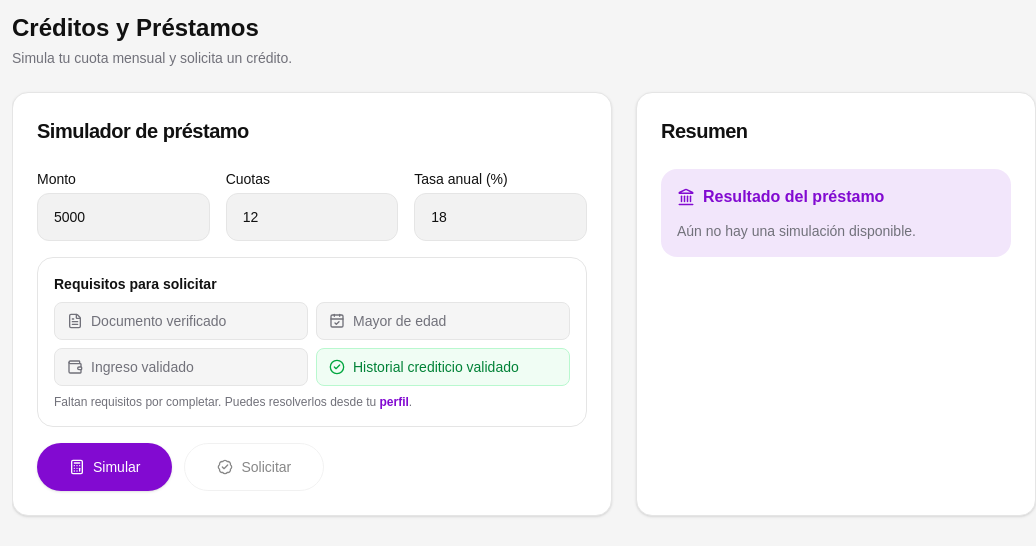
Test: LoansClient › should show server and fallback messages on simulate error
Click the button "Simular" at (105, 467), box left=37, top=443, right=172, bottom=491
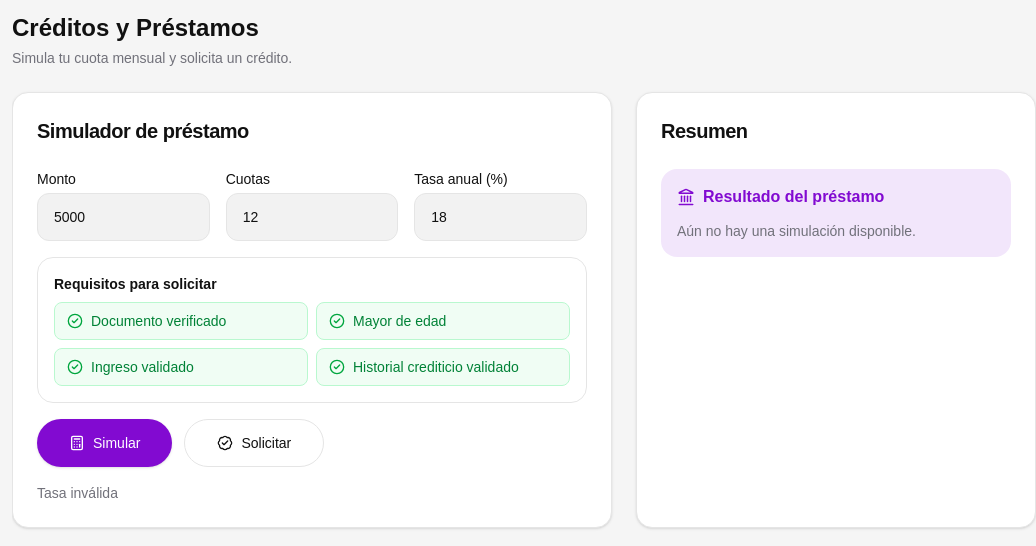
expect the text "Tasa inválida" is shown: met, box left=37, top=485, right=118, bottom=501
